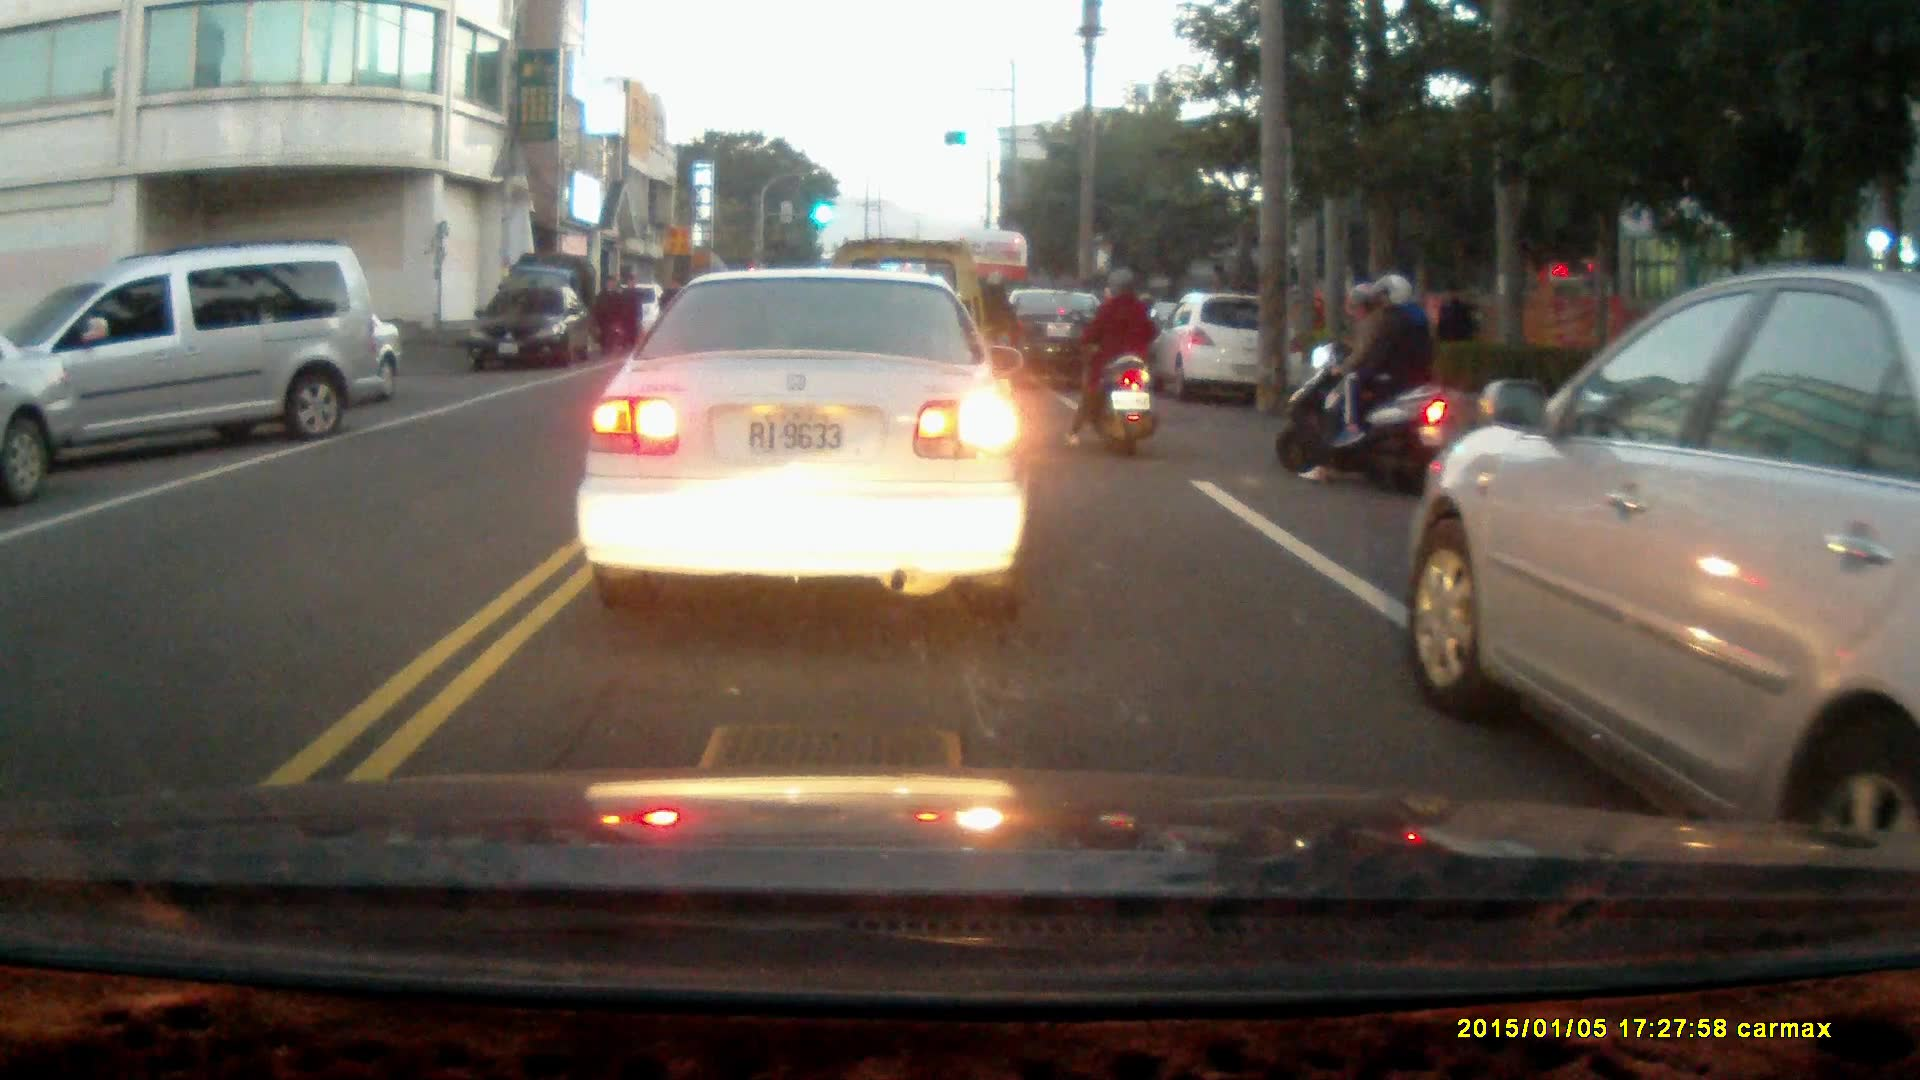pedestrian: (1431, 278, 1474, 376), (593, 274, 624, 358), (615, 273, 642, 355)
rider: (1272, 272, 1450, 490), (1063, 264, 1159, 456), (972, 267, 1025, 383)
vehicle: (1411, 266, 1913, 850), (584, 267, 1037, 613), (2, 245, 383, 473), (982, 286, 1121, 392), (1150, 290, 1280, 401), (1, 340, 81, 509), (478, 282, 595, 372)
